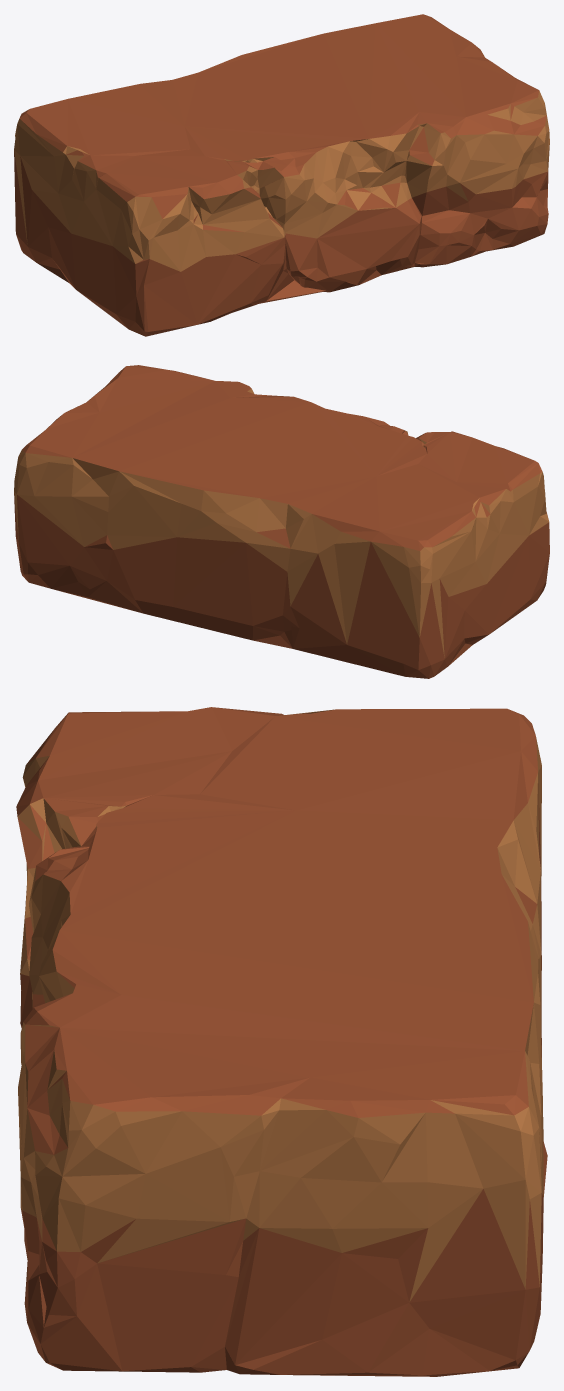
The model's file is ledge-2.glb.
The picture shows the model from 3 angles, top to bottom: view 1: azimuth 30°, elevation 25°; view 2: azimuth 150°, elevation 25°; view 3: azimuth 270°, elevation 25°; orthographic projection. The views are drawn at different scales.
Visible parts, largest first — view 1: output_unwrapped; view 2: output_unwrapped; view 3: output_unwrapped.
Boxes of the visible parts, bbox=[...] form: output_unwrapped: bbox=[14, 14, 549, 336]; output_unwrapped: bbox=[14, 365, 549, 678]; output_unwrapped: bbox=[16, 707, 547, 1376].
Bounding box in the file's own units: 3.5 × 1.1 × 1.93.
